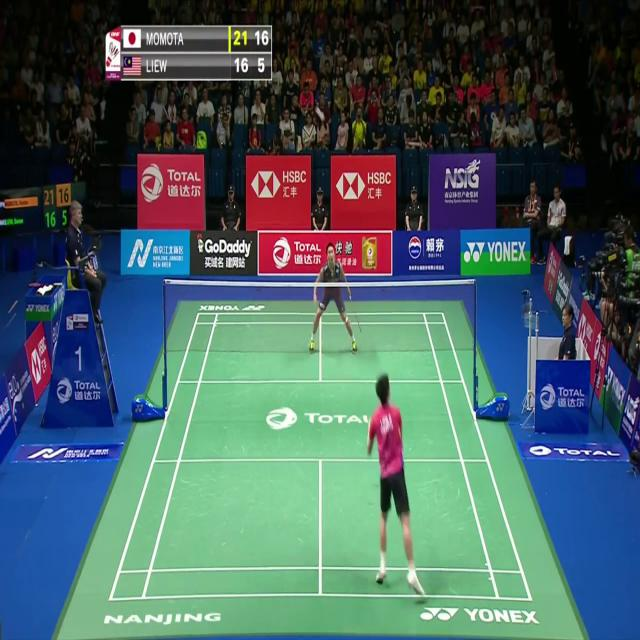Shuttlecock: (316, 106, 322, 118)
